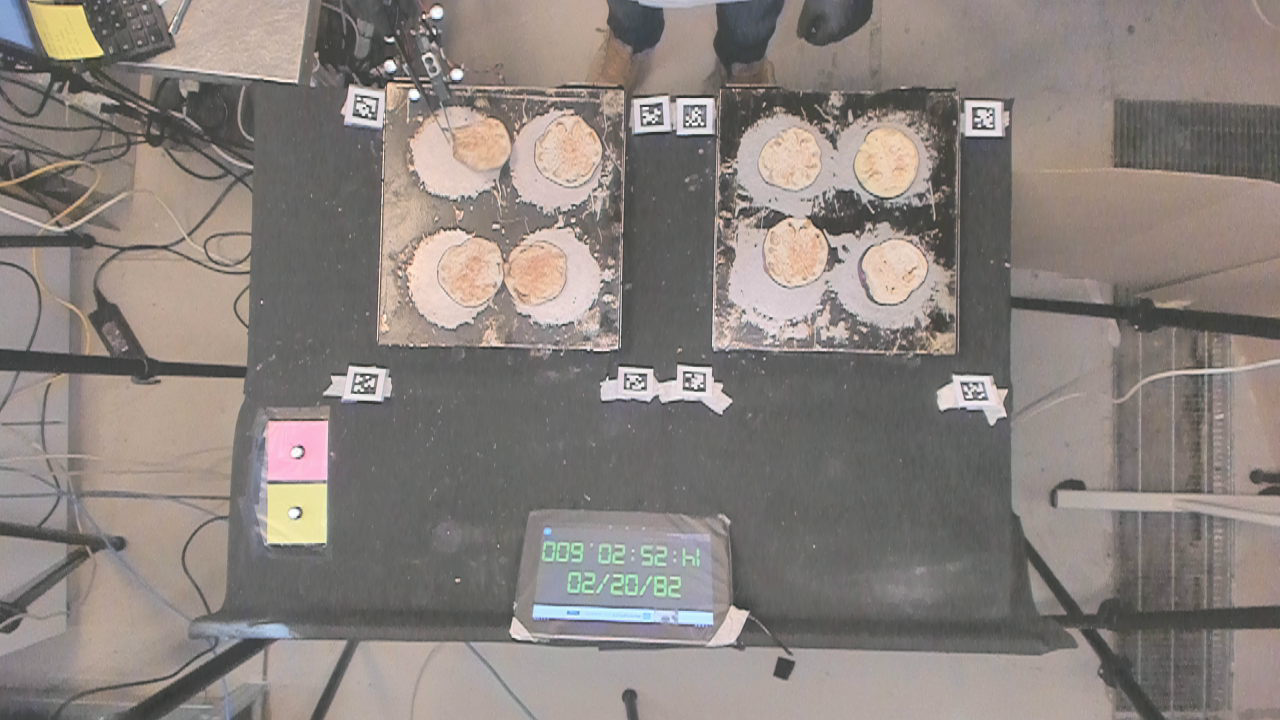eggplant: (533, 109, 603, 188), (853, 124, 920, 202), (763, 212, 829, 289), (435, 233, 503, 306), (859, 238, 929, 306), (759, 124, 821, 192), (503, 243, 568, 306), (444, 118, 515, 171)
marker: (264, 420, 329, 481)
